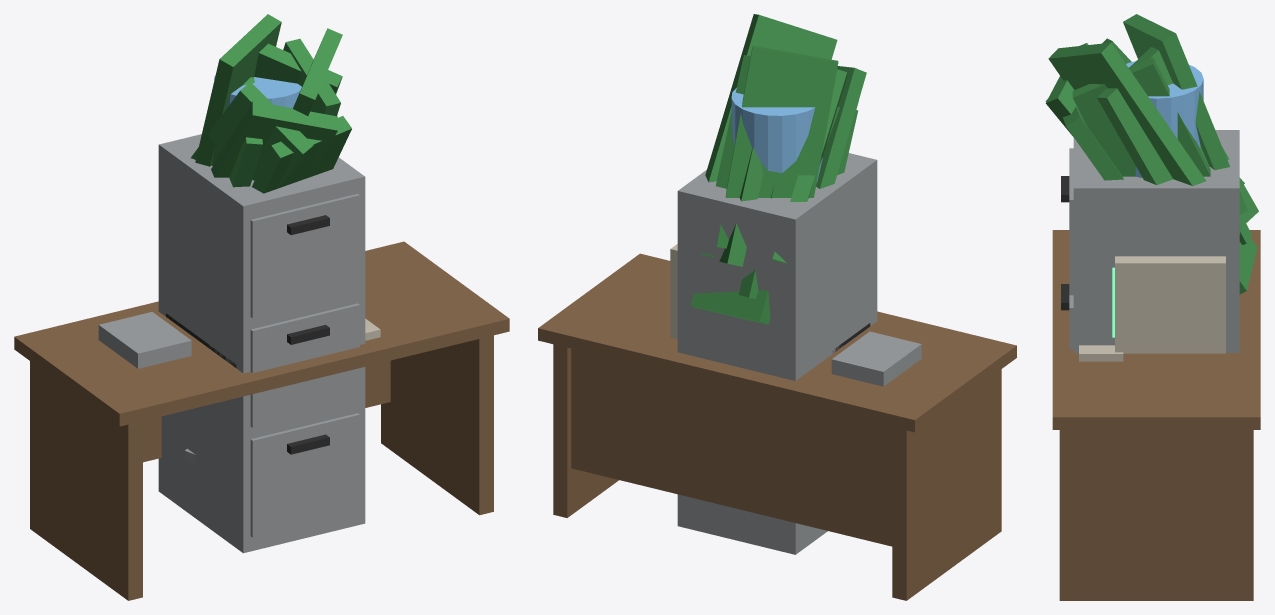
File: props.glb
The picture shows the model from 3 angles, left to right: view 1: azimuth 30°, elevation 25°; view 2: azimuth 150°, elevation 25°; view 3: azimuth 270°, elevation 25°; orthographic projection. The views are drawn at different scales.
Parts seen in each view (by area): view 1: Cabinet, Desk, Plant, Cooler; view 2: Desk, Cabinet, Plant, Cooler; view 3: Desk, Cabinet, Plant, Cooler.
Boxes of the visible parts, bbox=[...] form: Cabinet: bbox=[158, 134, 365, 553]; Desk: bbox=[14, 241, 509, 600]; Plant: bbox=[191, 14, 351, 193]; Cooler: bbox=[214, 75, 301, 180]; Desk: bbox=[538, 244, 1016, 600]; Cabinet: bbox=[677, 153, 877, 554]; Plant: bbox=[690, 14, 866, 324]; Cooler: bbox=[731, 87, 822, 182]; Desk: bbox=[1052, 230, 1260, 600]; Cabinet: bbox=[1061, 130, 1239, 352]; Plant: bbox=[1045, 14, 1258, 294]; Cooler: bbox=[1126, 61, 1203, 177].
Size of the model in its own units: 1.6 by 1.95 by 0.7763.
